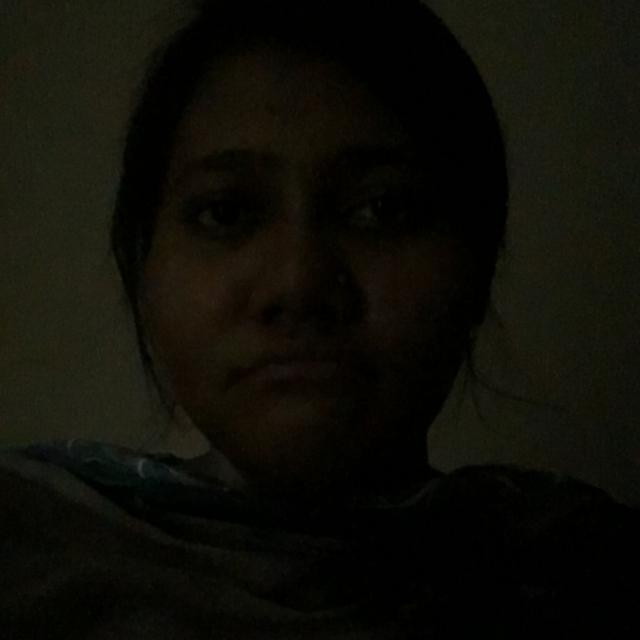Sad: (55, 43, 526, 516)
